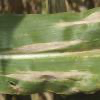Corn leaf blight: (0, 10, 99, 94)
